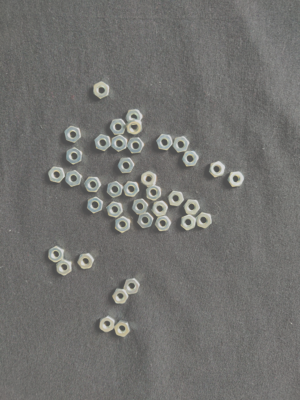nut: (94, 134, 111, 152), (93, 82, 110, 99), (65, 126, 82, 143), (66, 148, 83, 165), (107, 181, 124, 198), (123, 181, 140, 198), (137, 212, 154, 229), (123, 278, 140, 295), (127, 138, 145, 154), (227, 171, 245, 187), (115, 216, 131, 234), (110, 119, 127, 135), (126, 119, 143, 135), (173, 137, 190, 153), (182, 151, 199, 167), (112, 135, 128, 152), (209, 162, 226, 178), (118, 158, 135, 174), (141, 171, 157, 188), (48, 167, 65, 183), (65, 171, 82, 187), (168, 191, 185, 207), (87, 197, 103, 214), (106, 202, 123, 218), (132, 199, 149, 215), (155, 216, 172, 232), (181, 215, 197, 232), (196, 213, 213, 229), (56, 259, 72, 276), (77, 254, 94, 270), (99, 316, 115, 333), (115, 321, 131, 338), (84, 177, 102, 192), (157, 135, 173, 151), (146, 185, 162, 201), (152, 201, 168, 217), (49, 246, 64, 263), (112, 289, 129, 304), (184, 200, 200, 215), (126, 109, 143, 122)
